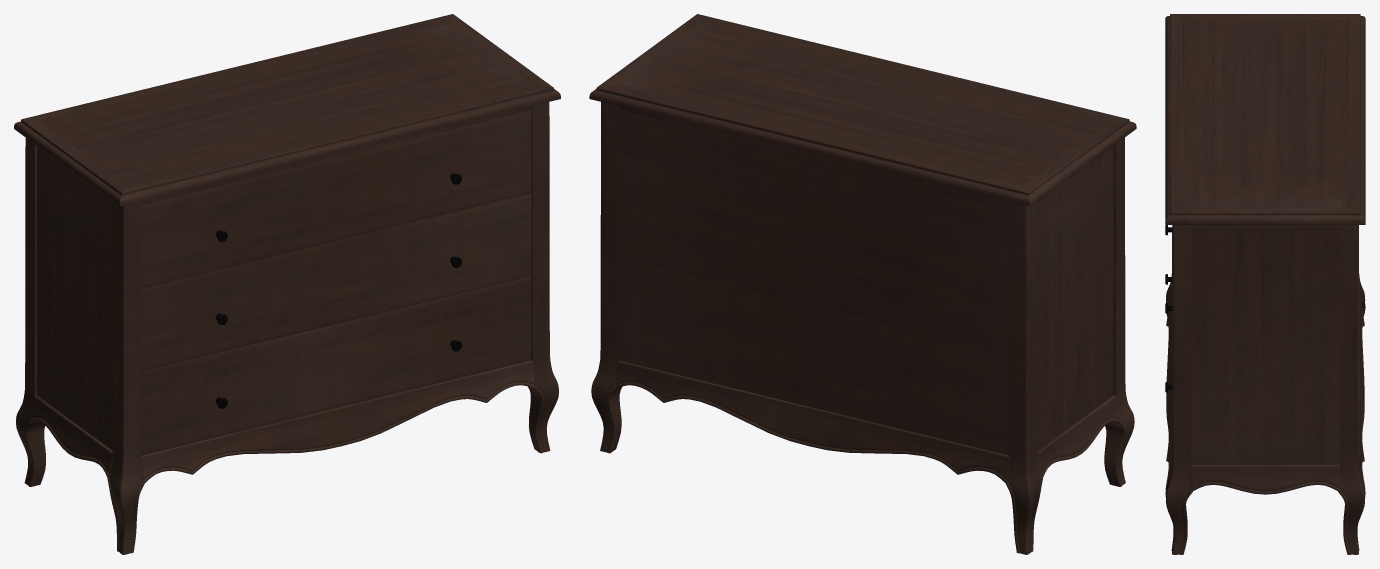
The picture shows the model from 3 angles, left to right: view 1: azimuth 30°, elevation 25°; view 2: azimuth 150°, elevation 25°; view 3: azimuth 270°, elevation 25°; orthographic projection. The views are drawn at different scales.
Visible parts, largest first — view 1: F07-16S106, 拉手; view 2: F07-16S106; view 3: F07-16S106.
Part boxes in pixels (bbox=[...]): F07-16S106: bbox=[14, 14, 560, 554]; 拉手: bbox=[216, 173, 461, 408]; F07-16S106: bbox=[589, 14, 1136, 554]; F07-16S106: bbox=[1165, 14, 1365, 554].
Size of the model in its own units: 108 by 85 by 45.04.
